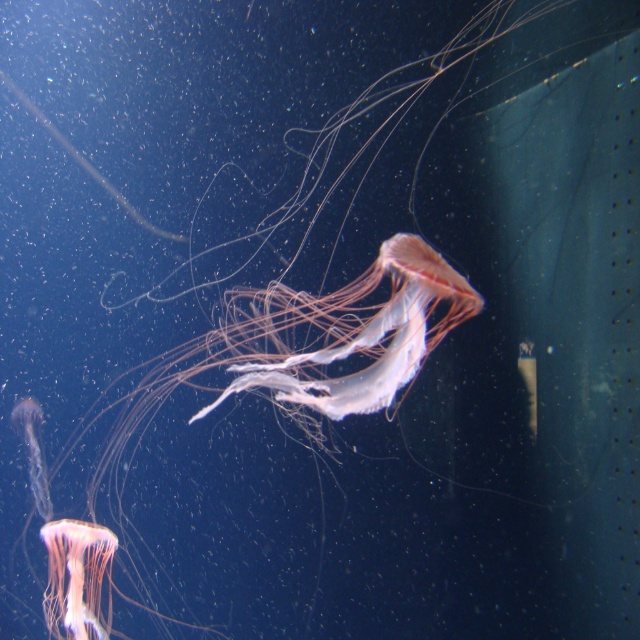Jellyfish: (20, 0, 570, 639), (40, 522, 129, 639)
